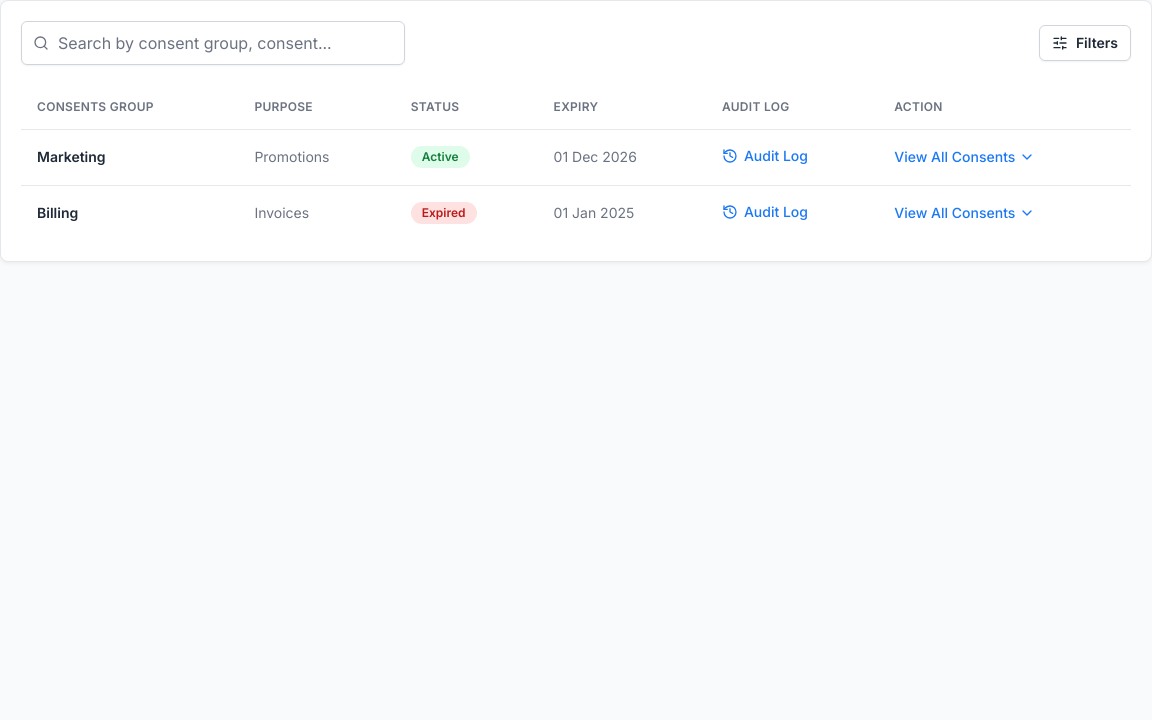
Test: PreferenceDetail › opens the audit-log drawer for a record
Click the button "Audit Log" in the row of "Promotions".
click(765, 156)  # box [722,146,808,166]
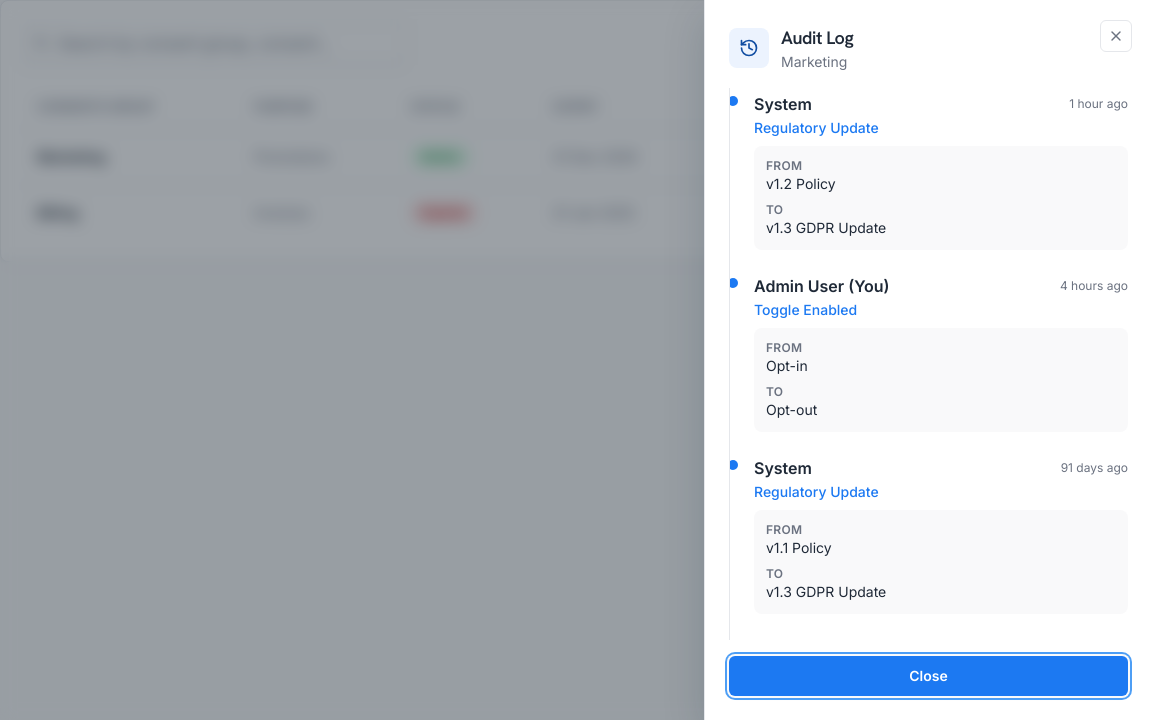
Expected: the dialog is shown, [704,0,1151,719]
